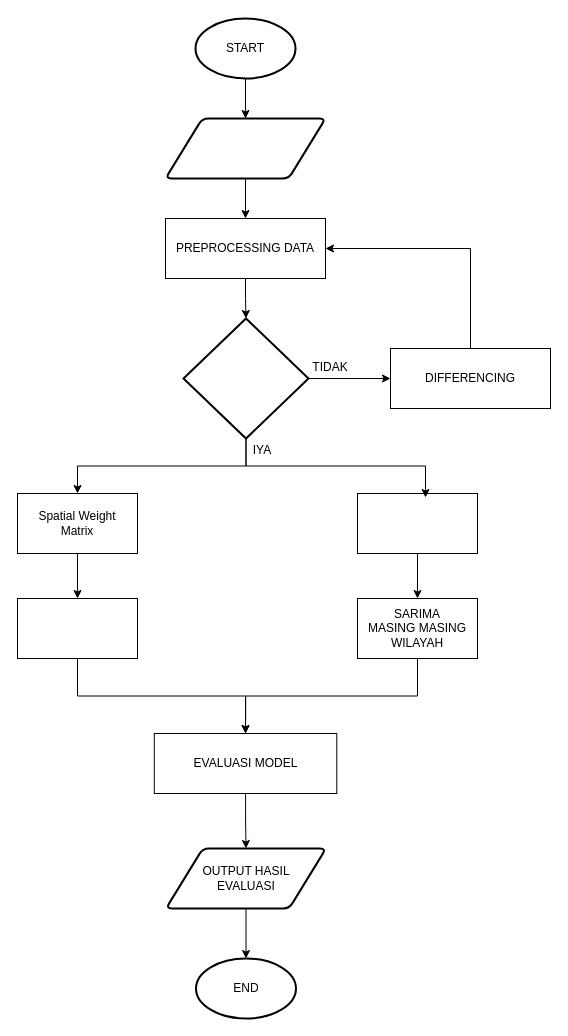
Image size: 568x1036. Some labels were removed from this diagram. The shapes that lost their labels are listed below. From the top down, each one's box as (x1, y1, x2, y2) in pixels, then its label:
(164, 117, 326, 179): INPUT DATA RAW
(182, 317, 309, 439): APAKAH DATA STATIONER?
(356, 492, 478, 554): SARIMA
(16, 598, 138, 658): STARIMA
